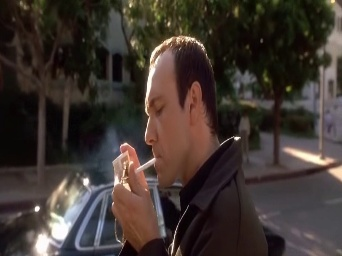smoke: (131, 155, 159, 174)
